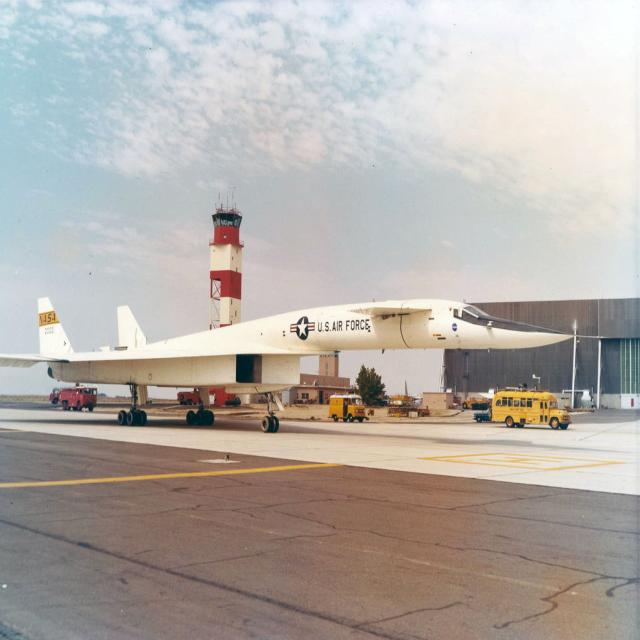MIL_Plane: (1, 296, 610, 433)
